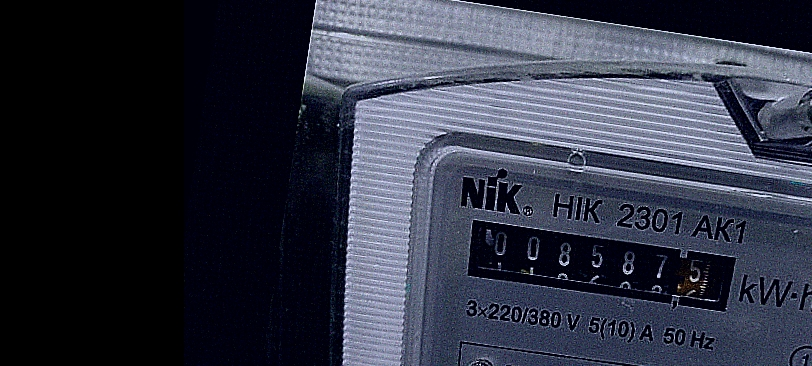0: (490, 227, 511, 258), (524, 233, 545, 263)
5: (686, 256, 707, 287), (587, 241, 608, 271)
7: (650, 249, 672, 282)
8: (619, 246, 640, 278), (555, 238, 575, 268)
screen: (446, 201, 757, 327)
